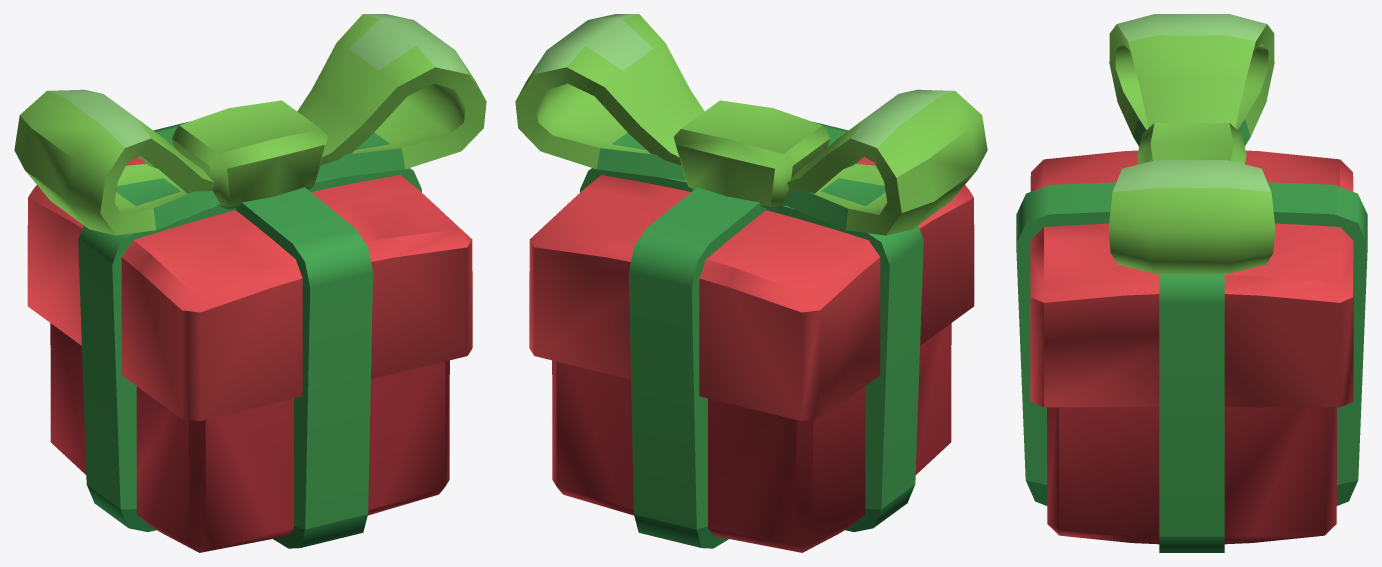
File: presente_natal_vermelho_fita_verde_pacote.glb
The picture shows the model from 3 angles, left to right: view 1: azimuth 30°, elevation 25°; view 2: azimuth 150°, elevation 25°; view 3: azimuth 270°, elevation 25°; orthographic projection. The views are drawn at different scales.
Visible parts, largest first — view 1: presente_natal_vermelho_fita_verde_pacote; view 2: presente_natal_vermelho_fita_verde_pacote; view 3: presente_natal_vermelho_fita_verde_pacote.
Part boxes in pixels (left/top/right/bottom): presente_natal_vermelho_fita_verde_pacote: left=14, top=14, right=486, bottom=552; presente_natal_vermelho_fita_verde_pacote: left=515, top=14, right=987, bottom=552; presente_natal_vermelho_fita_verde_pacote: left=1016, top=14, right=1367, bottom=552.
Bounding box in the file's own units: 0.3571 × 0.36 × 0.2775.
1 material, 1 textured.
